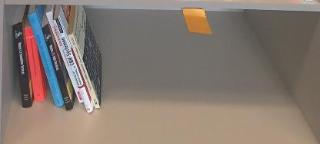book-spine: (53, 17, 94, 115), (45, 11, 84, 105), (27, 10, 64, 109), (41, 24, 73, 112), (67, 32, 100, 111), (12, 22, 32, 109), (23, 26, 44, 104)
